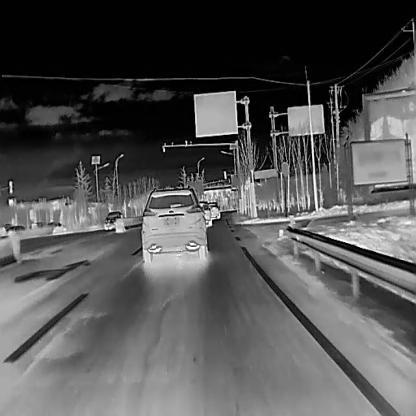car: (140, 187, 207, 262), (197, 200, 211, 226), (104, 211, 123, 229), (207, 201, 220, 219), (6, 225, 25, 233), (46, 221, 63, 227)
